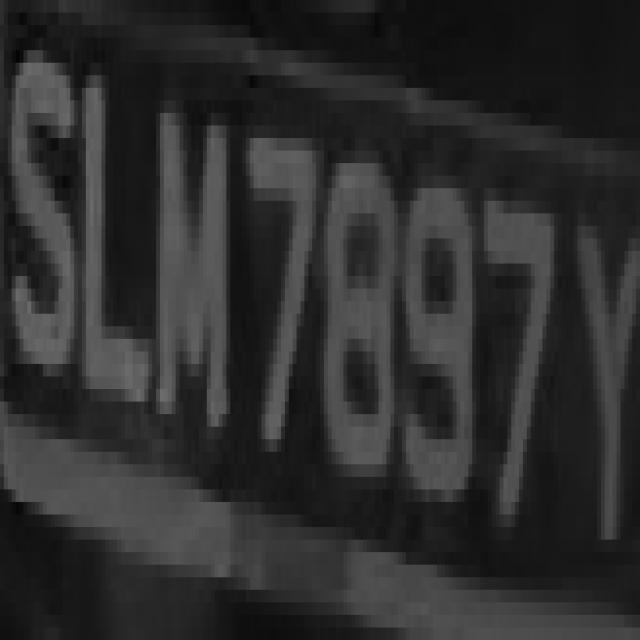7: (472, 125, 558, 590), (234, 76, 316, 490)
8: (308, 126, 402, 514)
9: (394, 113, 484, 577)
L: (82, 12, 160, 426)
M: (148, 50, 238, 452)
S: (4, 0, 82, 402)
Y: (558, 138, 640, 590)
